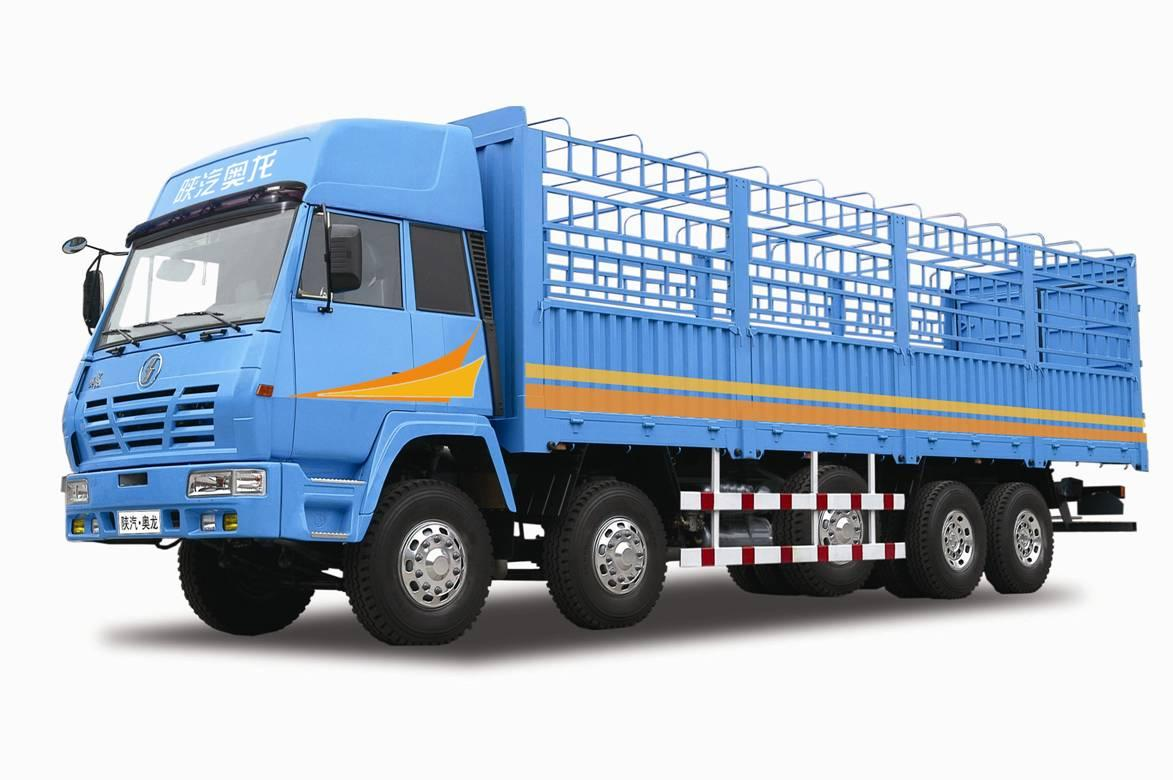truck: (58, 103, 1150, 646)
